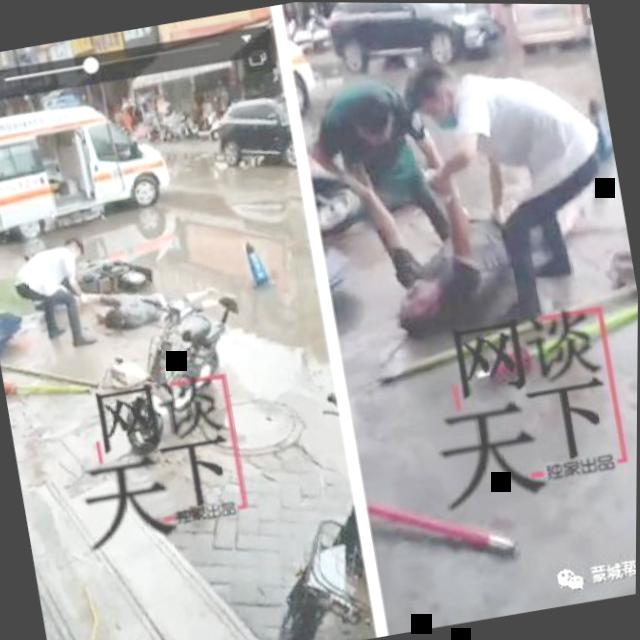Fall-Detected: (352, 131, 541, 339)
